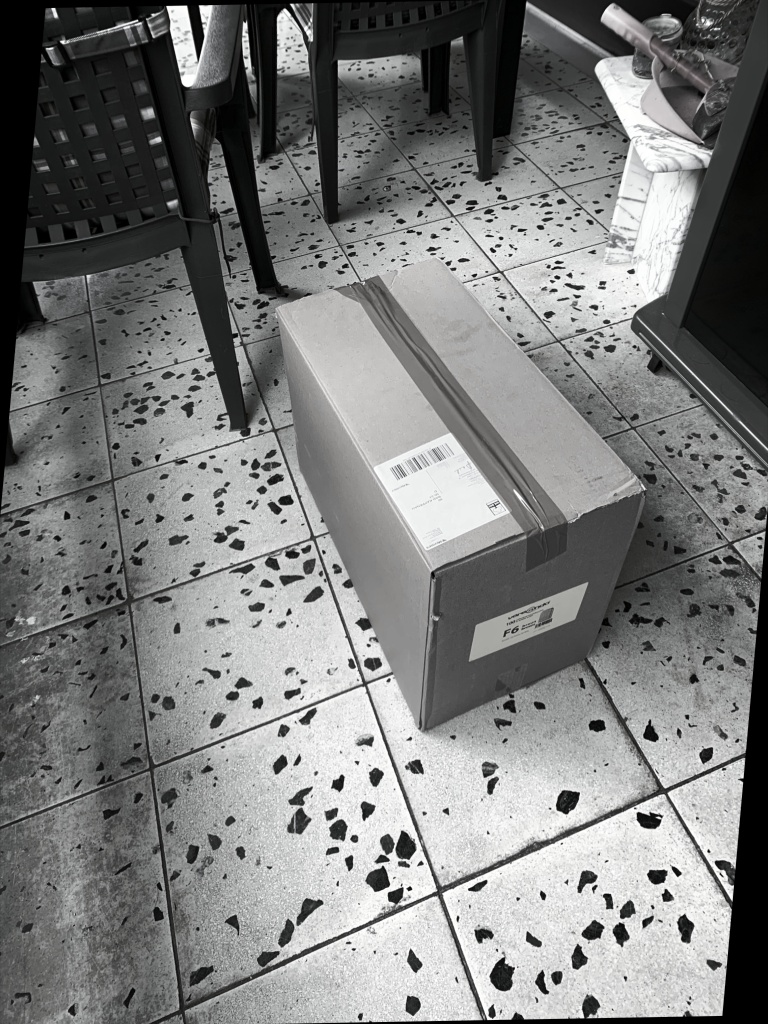good-parcel: (267, 262, 651, 738)
